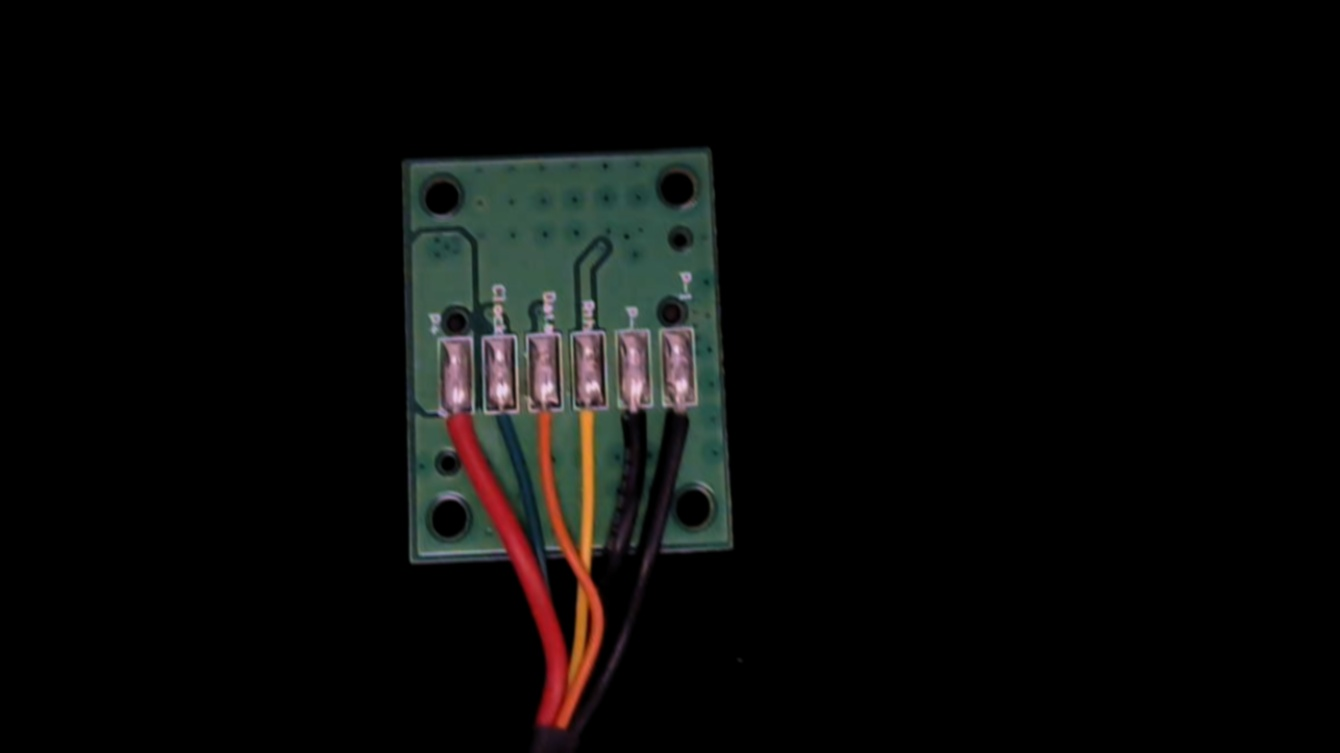Black: (615, 390, 656, 481)
Black1: (664, 382, 704, 466)
Green: (482, 390, 522, 472)
Orange: (526, 392, 565, 482)
Red: (438, 394, 477, 481)
Yellow: (572, 387, 613, 479)
